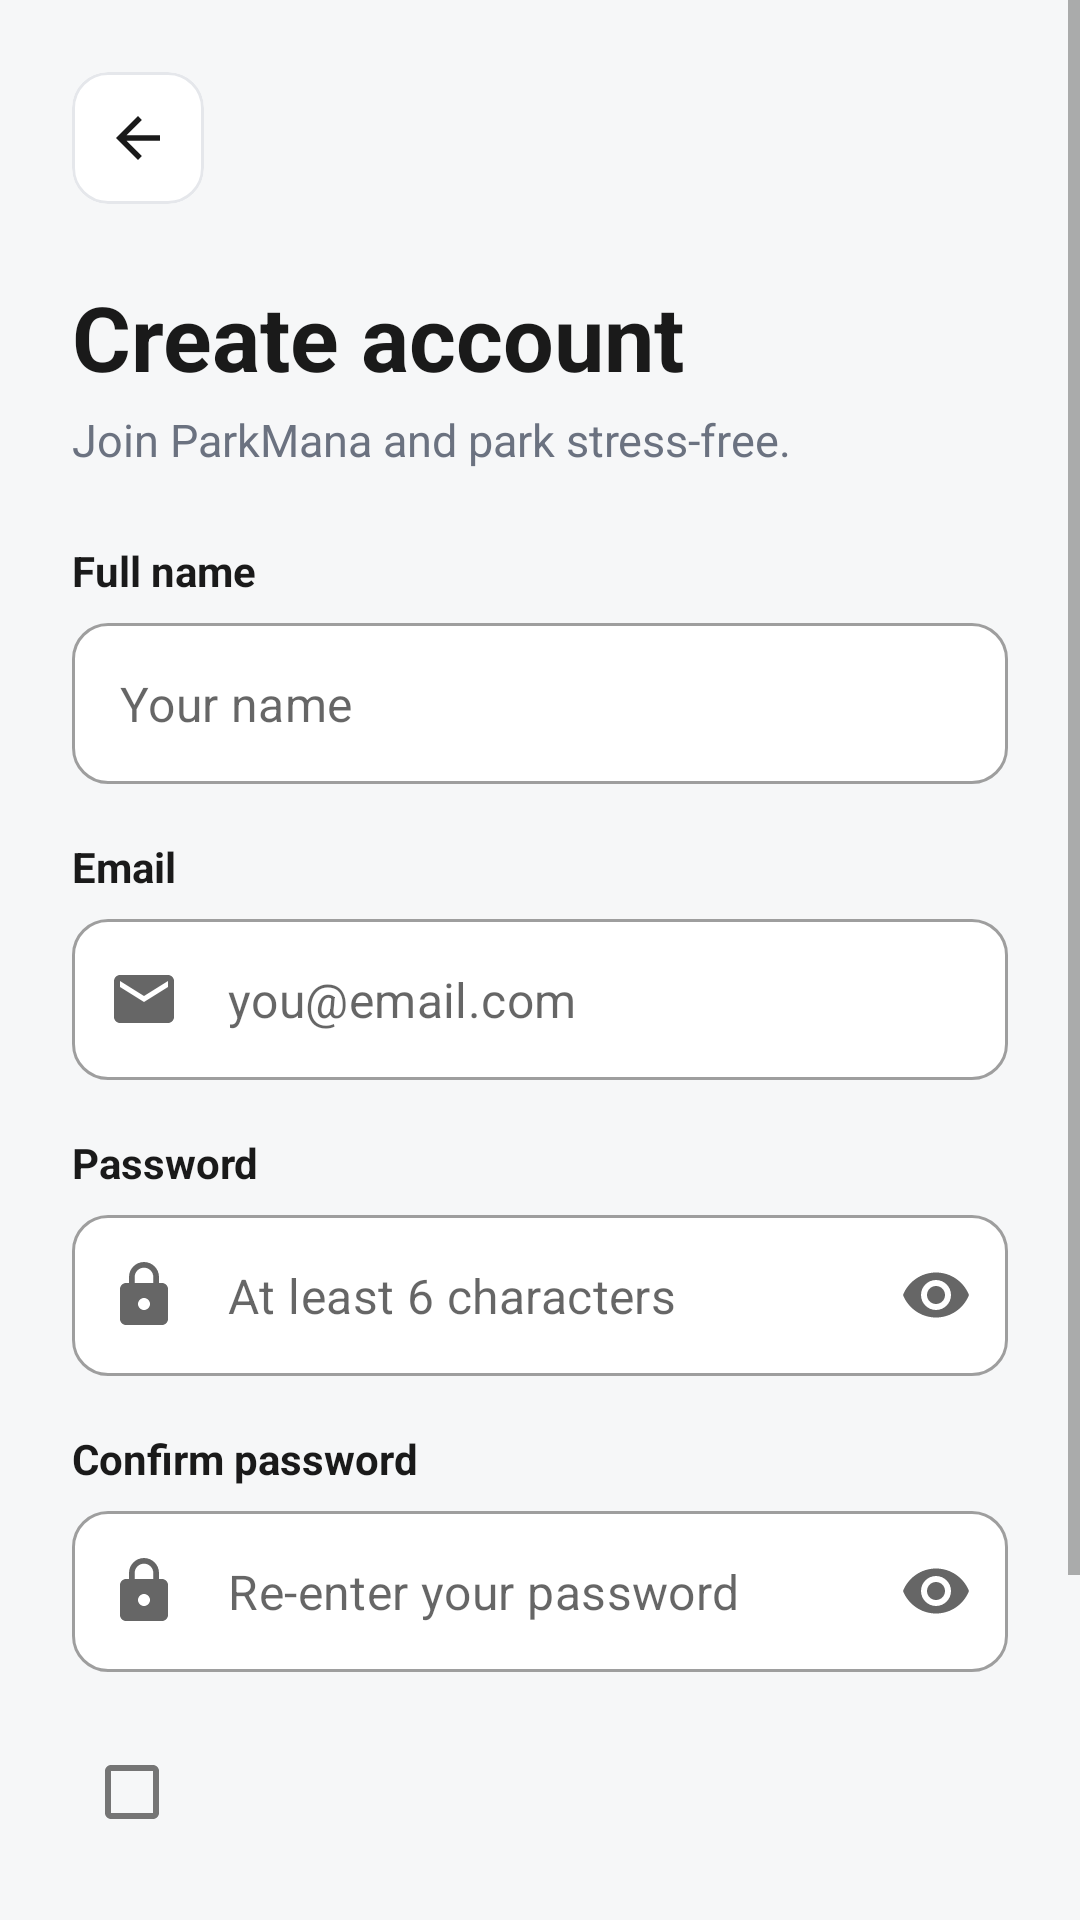

Screen size 1080 x 1920. Icon name, then its center in pixels as (x=x, y=y):
arrow back: (x=138, y=138)
